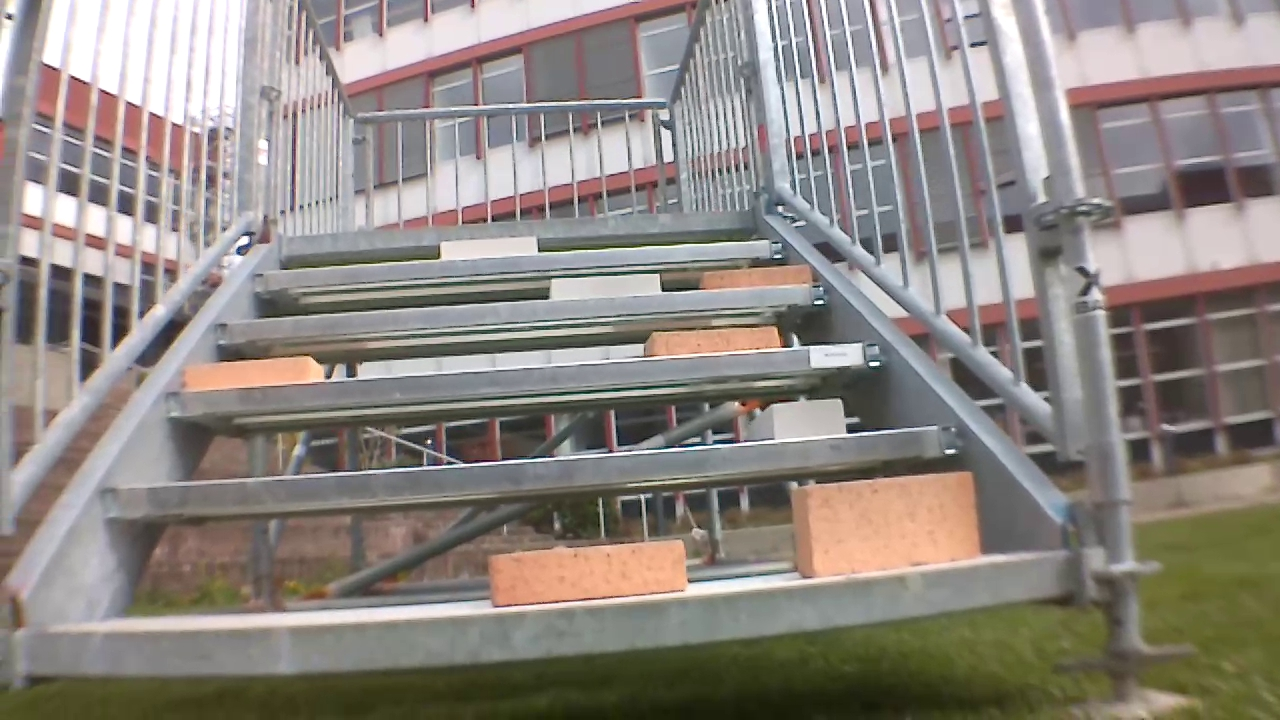brick: (792, 468, 982, 572), (485, 538, 686, 610), (176, 353, 327, 391), (752, 398, 849, 443), (644, 329, 776, 360), (549, 272, 664, 306), (706, 261, 817, 288), (442, 236, 540, 259)
edge: (25, 550, 1090, 678), (101, 419, 968, 523), (160, 340, 885, 421), (210, 283, 838, 342), (248, 236, 783, 286), (276, 204, 752, 252)
stairs: (0, 0, 1169, 706)
steps: (0, 204, 1099, 671)
